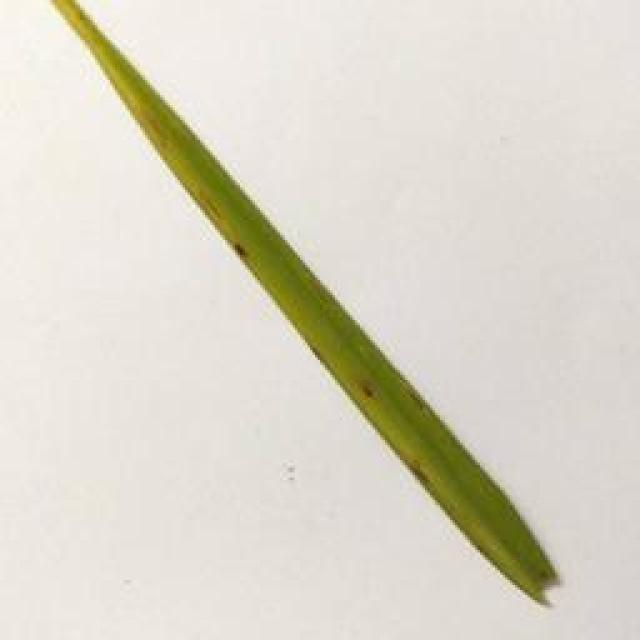Brown_Spot: (298, 332, 336, 366), (352, 381, 393, 408), (233, 242, 266, 268), (403, 457, 429, 487), (403, 378, 431, 403)
